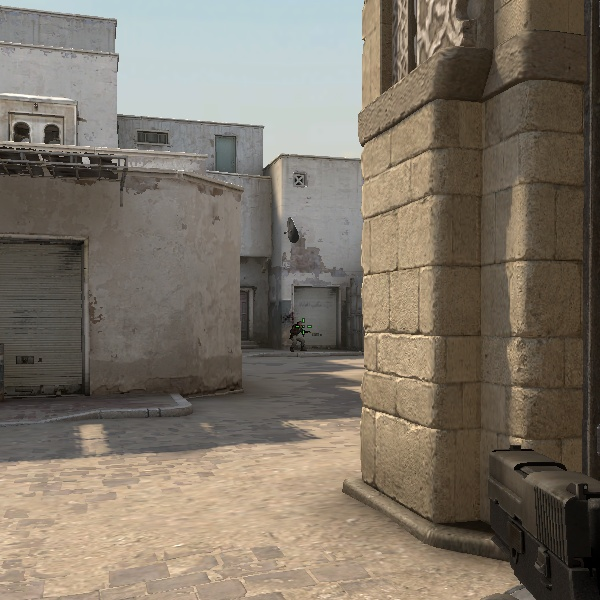t_body: (287, 318, 308, 352)
t_head: (295, 318, 306, 329)
